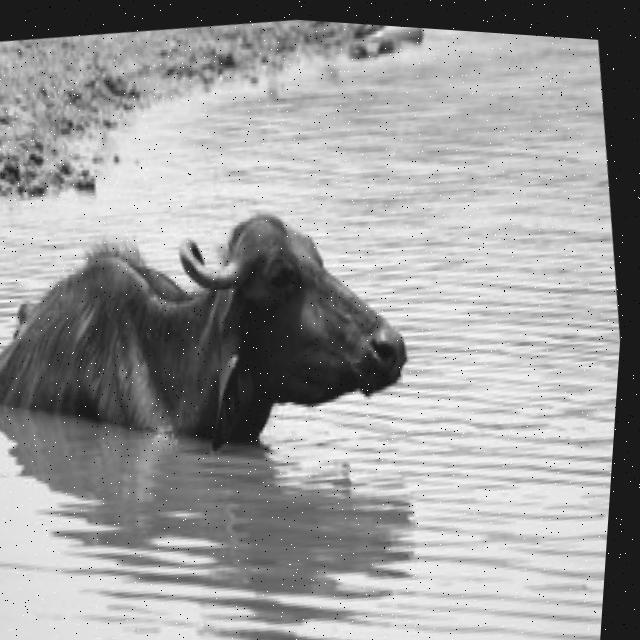Buffalo: (0, 169, 431, 498)
